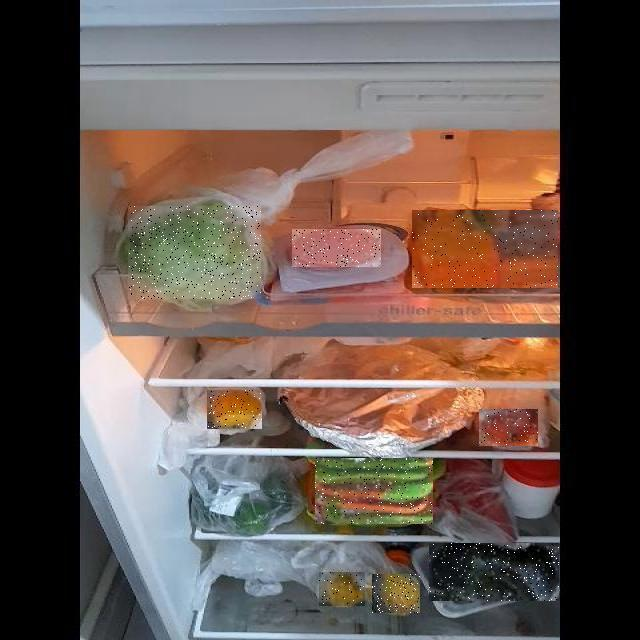Bread: (412, 210, 558, 288)
Broccoli: (429, 543, 559, 601)
Lemon: (207, 390, 262, 429), (372, 574, 420, 613), (319, 572, 365, 606)
Lettuce: (128, 206, 261, 299)
Meat: (315, 458, 433, 524)
Sausages: (292, 229, 381, 267)
Tomato Paste: (479, 409, 538, 446)
